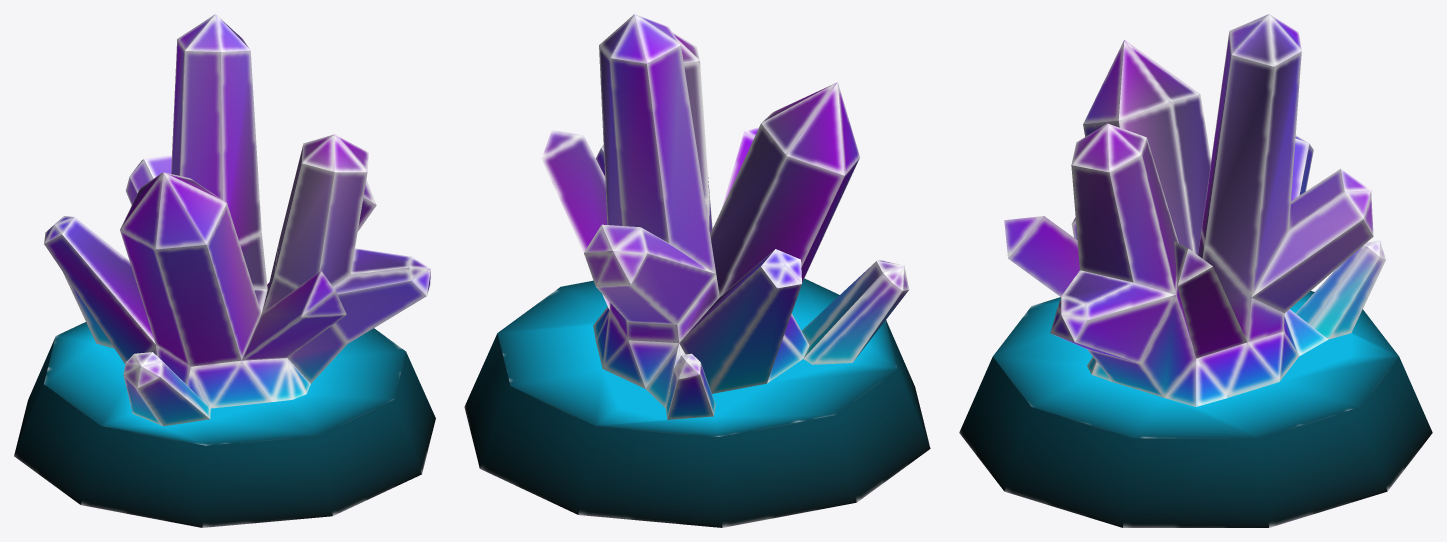
The model's file is Crystal13.FBX.
The picture shows the model from 3 angles, left to right: view 1: azimuth 30°, elevation 25°; view 2: azimuth 150°, elevation 25°; view 3: azimuth 270°, elevation 25°; orthographic projection. The views are drawn at different scales.
Parts seen in each view (by area): view 1: Crystal13; view 2: Crystal13; view 3: Crystal13.
Boxes of the visible parts, x1,y1,x2,y2 form: Crystal13: (14, 14, 435, 527); Crystal13: (464, 14, 930, 527); Crystal13: (959, 14, 1432, 527).
Size of the model in its own units: 21.38 by 22.61 by 22.48.
